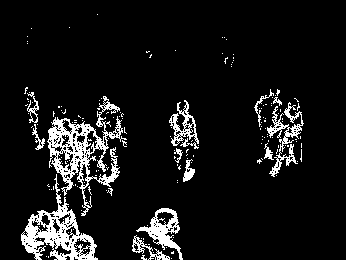person: (69, 112, 106, 217), (93, 95, 129, 199), (45, 105, 75, 210), (134, 208, 184, 260), (170, 101, 200, 185), (272, 98, 303, 179), (255, 85, 284, 166), (21, 85, 45, 151)
